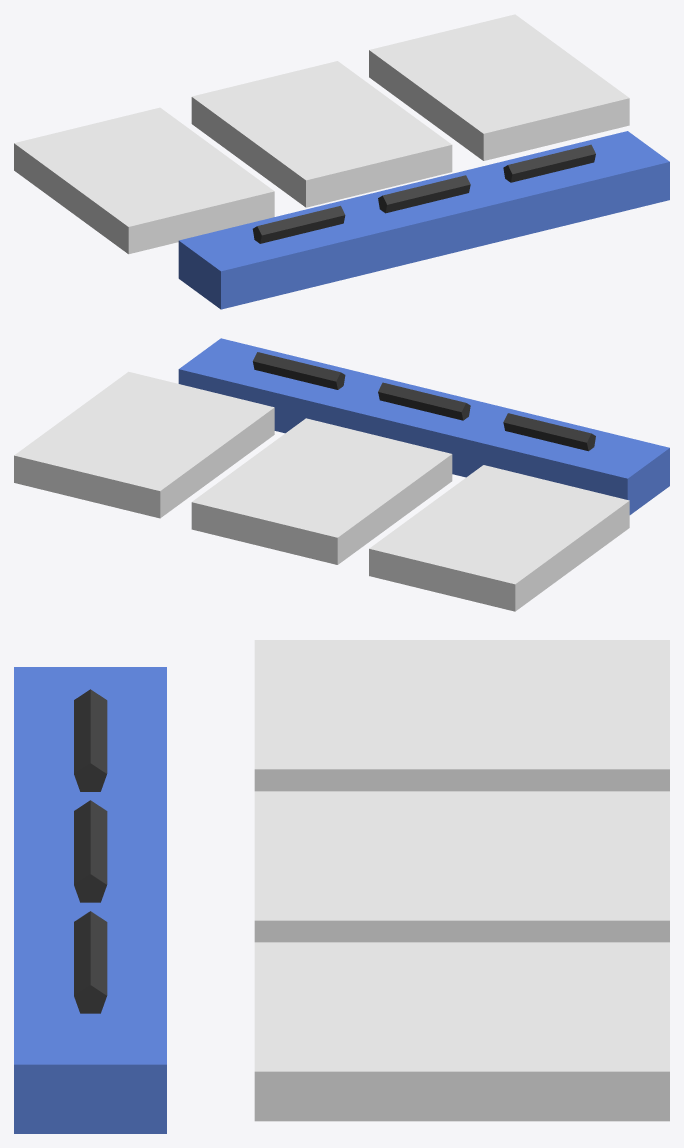
The picture shows the model from 3 angles, top to bottom: view 1: azimuth 30°, elevation 25°; view 2: azimuth 150°, elevation 25°; view 3: azimuth 270°, elevation 25°; orthographic projection. The views are drawn at different scales.
Visible parts, largest first — view 1: Pen tray, Paper stack.001, Paper stack.002, Paper stack, Pen.001, Pen.002, Pen; view 2: Pen tray, Paper stack.001, Paper stack, Paper stack.002, Pen, Pen.001, Pen.002; view 3: Paper stack.002, Paper stack, Paper stack.001, Pen tray, Pen.001, Pen.002, Pen.
Part boxes in pixels (x1,y1,x2,y2): Pen tray: (178, 131, 669, 309); Paper stack.001: (191, 61, 452, 207); Paper stack.002: (369, 14, 629, 160); Paper stack: (14, 107, 274, 254); Pen.001: (378, 175, 470, 213); Pen.002: (503, 144, 595, 182); Pen: (252, 205, 345, 243); Pen tray: (178, 338, 669, 514); Paper stack.001: (191, 418, 452, 564); Paper stack: (369, 465, 629, 611); Paper stack.002: (14, 371, 274, 518); Pen: (503, 413, 595, 451); Pen.001: (378, 382, 470, 420); Pen.002: (252, 352, 345, 389); Paper stack.002: (254, 942, 669, 1121); Paper stack: (254, 640, 669, 791); Paper stack.001: (254, 791, 669, 942); Pen tray: (14, 667, 166, 1133); Pen.001: (74, 800, 107, 902); Pen.002: (74, 911, 107, 1013); Pen: (74, 689, 107, 791).
Bounding box in the file's own units: 0.48 × 0.0495 × 0.3.
1 material, 1 textured.
